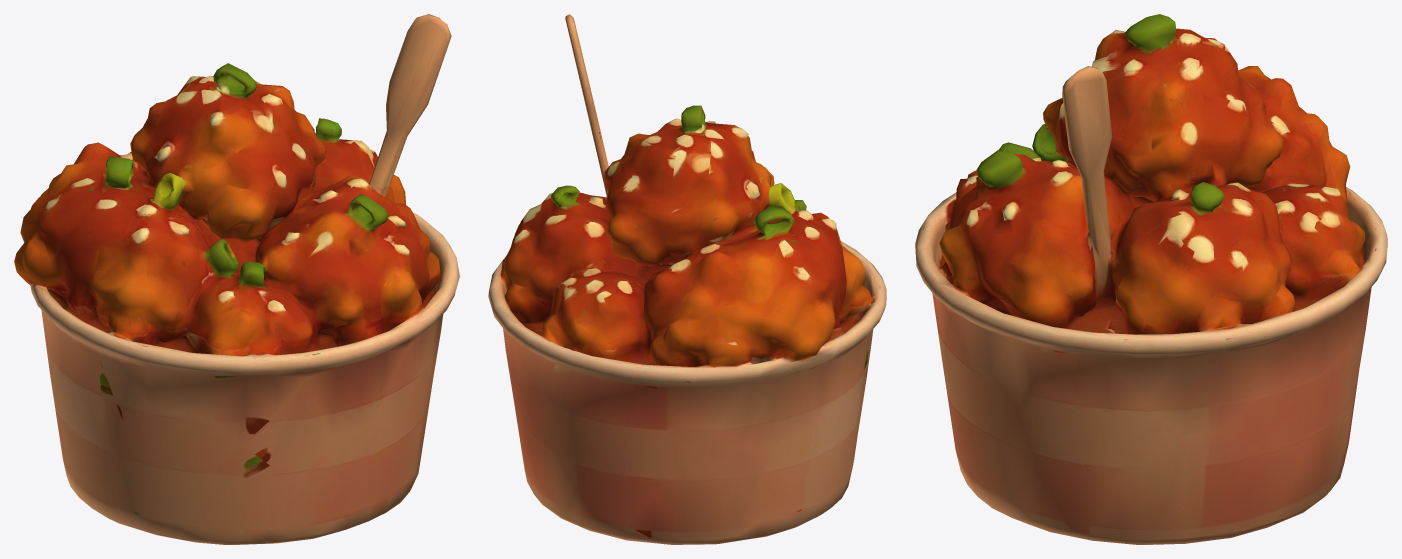
3 views of the same model, side by side, from view 1: azimuth 30°, elevation 25°; view 2: azimuth 150°, elevation 25°; view 3: azimuth 270°, elevation 25° (orthographic). The views are drawn at different scales.
Visible parts, largest first — view 1: dakgangjeong; view 2: dakgangjeong; view 3: dakgangjeong.
Boxes of the visible parts, x1=… form: dakgangjeong: x1=14, y1=14, x2=459, y2=544; dakgangjeong: x1=488, y1=14, x2=886, y2=544; dakgangjeong: x1=915, y1=14, x2=1387, y2=544.
Bounding box in the file's own units: 0.1596 × 0.18 × 0.1593.
Materials: 1 (1 with a texture image).
